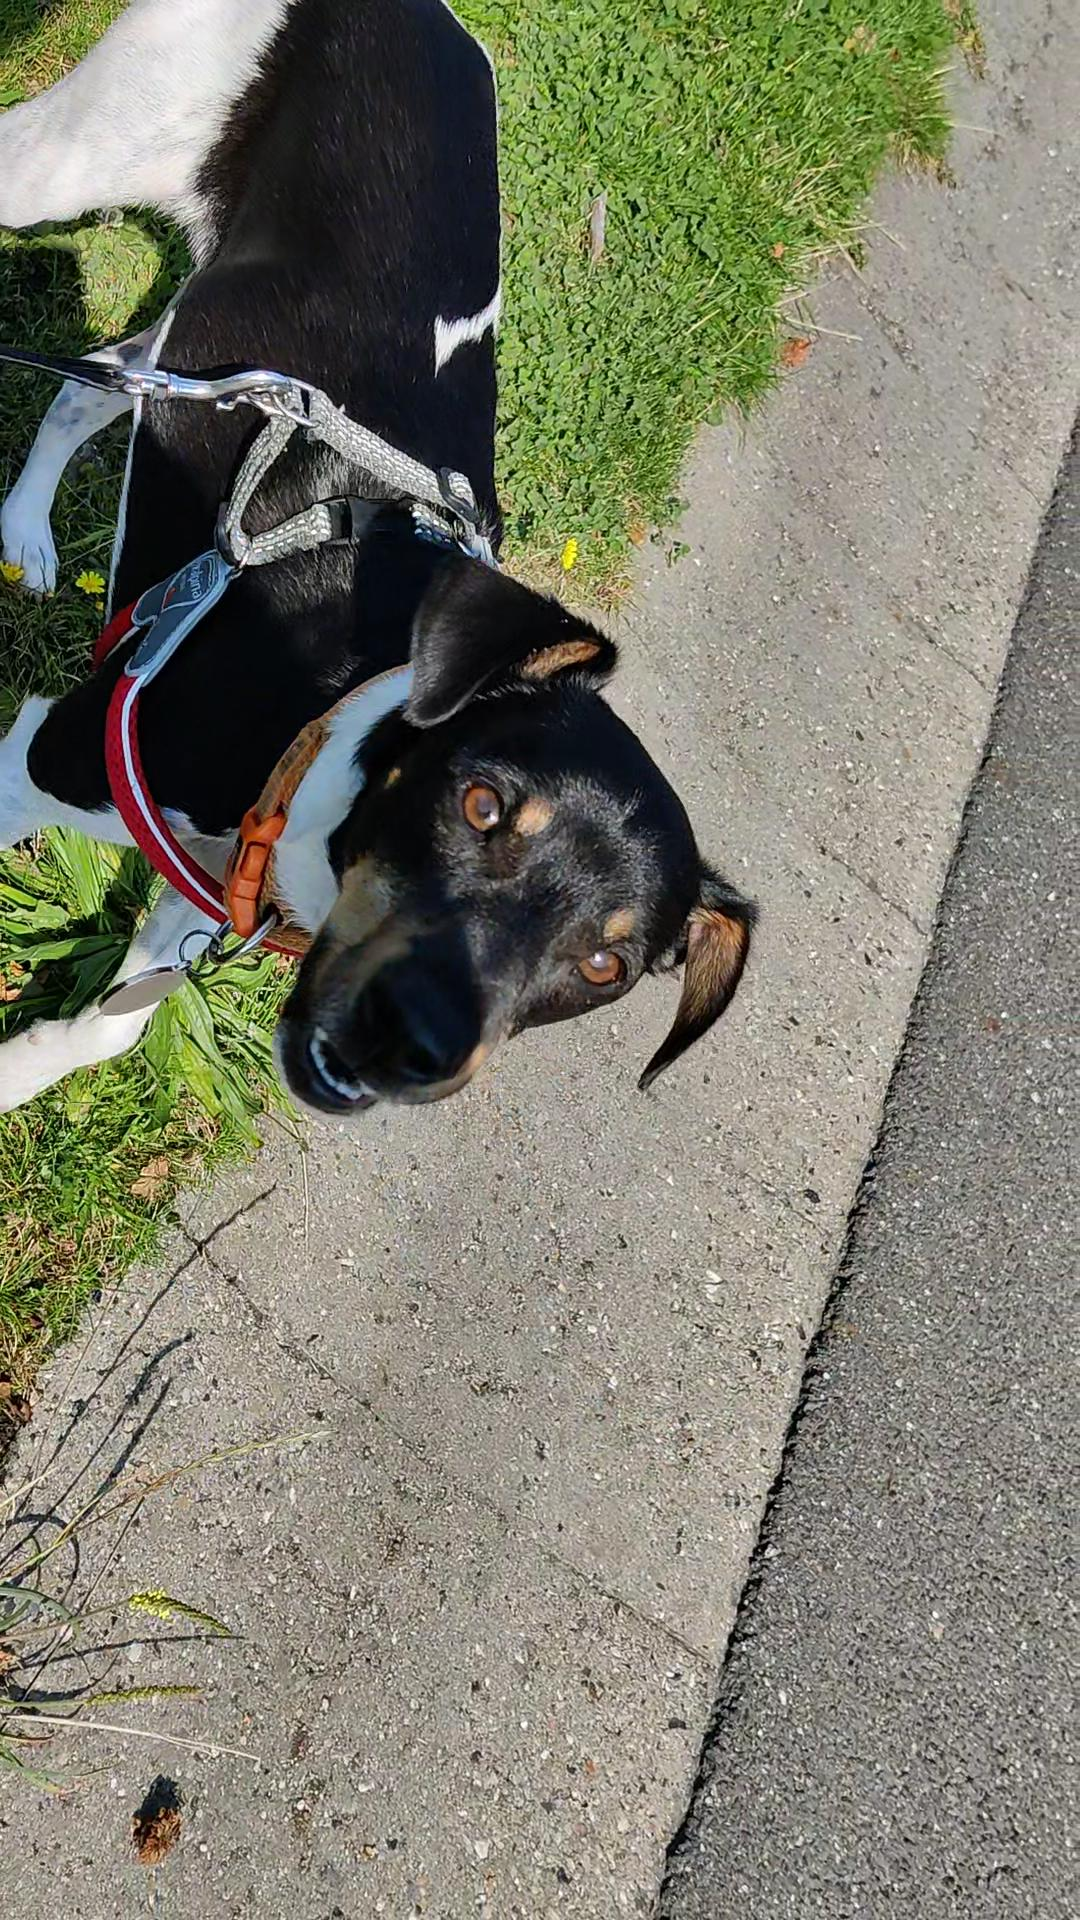Dog: (0, 0, 767, 1116)
